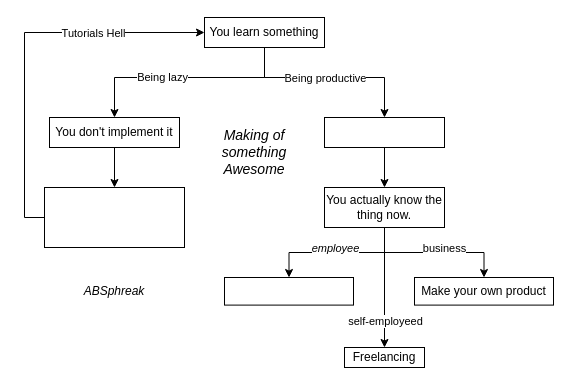
This 571x385 diagram has some shape labels left out. The shapes that lost their labels are listed below. From the top down, each one's box as (x1, y1, x2, y2) in pixels, then its label:
(324, 116, 444, 148): You implement it
(44, 186, 184, 248): Makes you think you don't know it fully (Lack of confidence)
(224, 276, 354, 305): Add to the Resume
